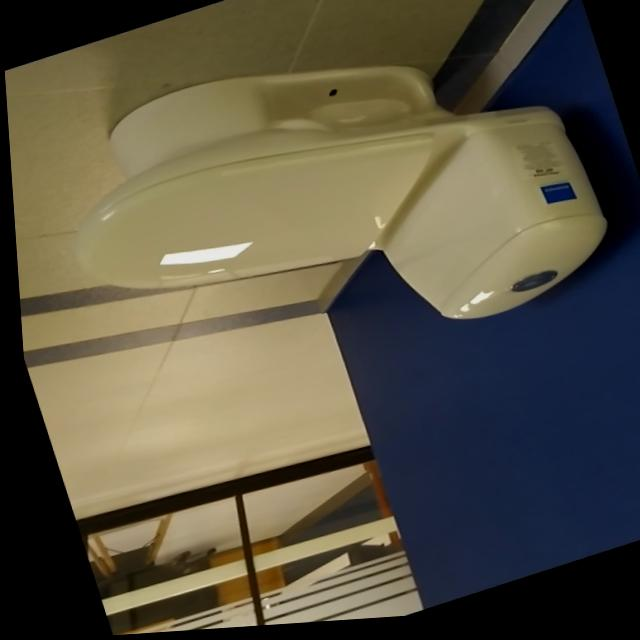toilet: (27, 0, 627, 438)
